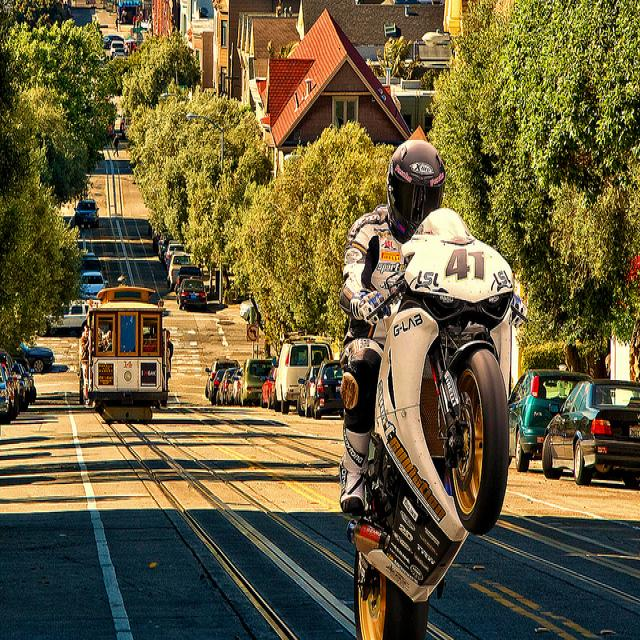motor: (347, 207, 530, 632)
